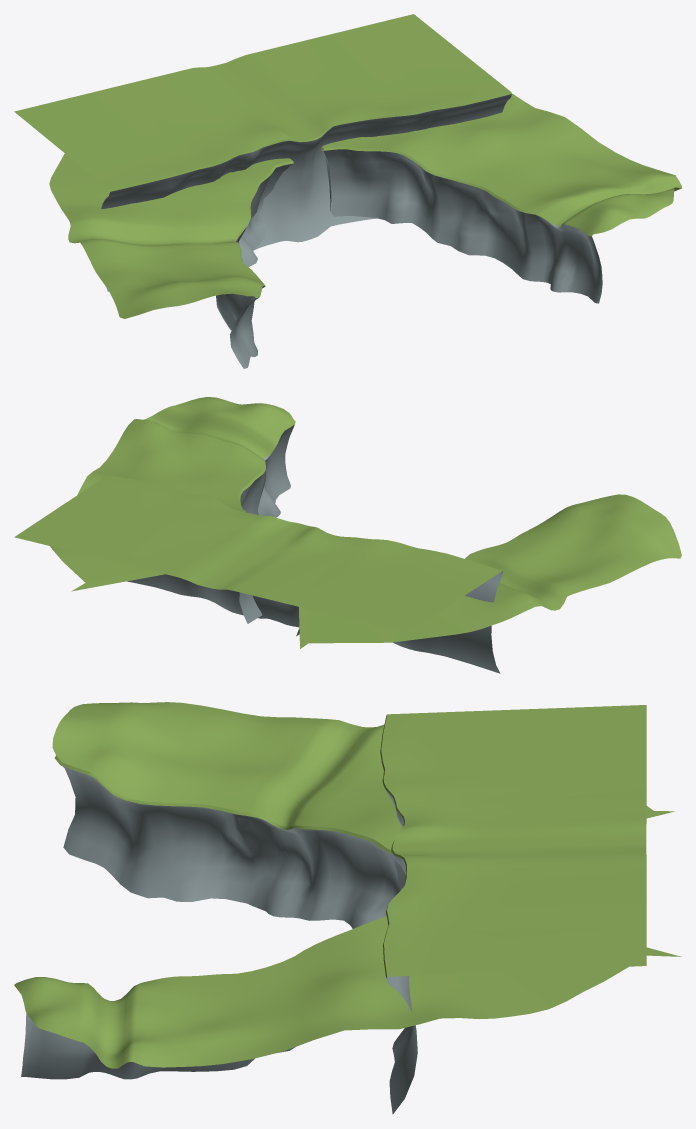
File: land.fbx
3 renders of one model, top to bottom at view 1: azimuth 30°, elevation 25°; view 2: azimuth 150°, elevation 25°; view 3: azimuth 270°, elevation 25°, orthographic. The views are drawn at different scales.
Visible parts, largest first — view 1: polySurface6; view 2: polySurface6; view 3: polySurface6.
Boxes of the visible parts, <box> form: polySurface6: <box>14,14,681,368</box>; polySurface6: <box>14,397,681,673</box>; polySurface6: <box>14,702,681,1114</box>.
Bounding box in the file's own units: 147327 × 29468 × 114245.
